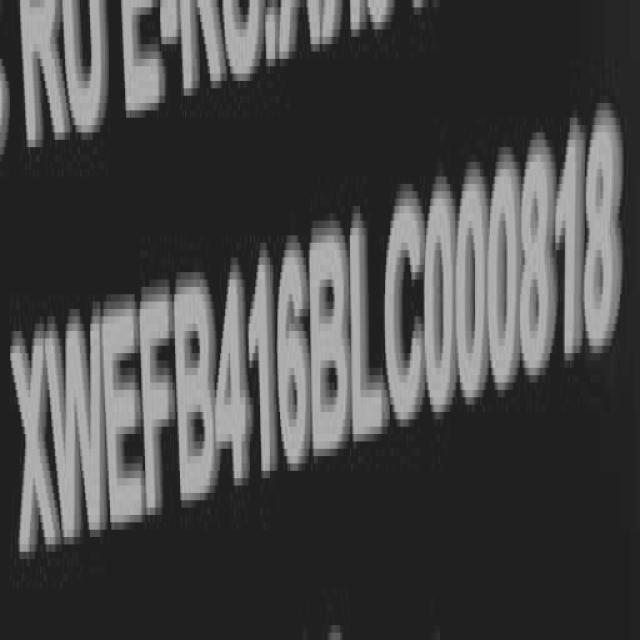0: (488, 145, 521, 394), (424, 176, 457, 418), (457, 169, 489, 407)
1: (553, 116, 580, 375), (252, 252, 276, 489)
4: (214, 264, 248, 502)
6: (277, 237, 310, 481)
8: (586, 103, 624, 358), (520, 132, 556, 386)
B: (309, 218, 348, 466), (180, 270, 218, 516)
C: (388, 190, 427, 437)
E: (106, 294, 146, 540)
F: (139, 275, 175, 540)
L: (350, 202, 388, 453)
W: (48, 308, 108, 560)
X: (12, 323, 53, 570)
